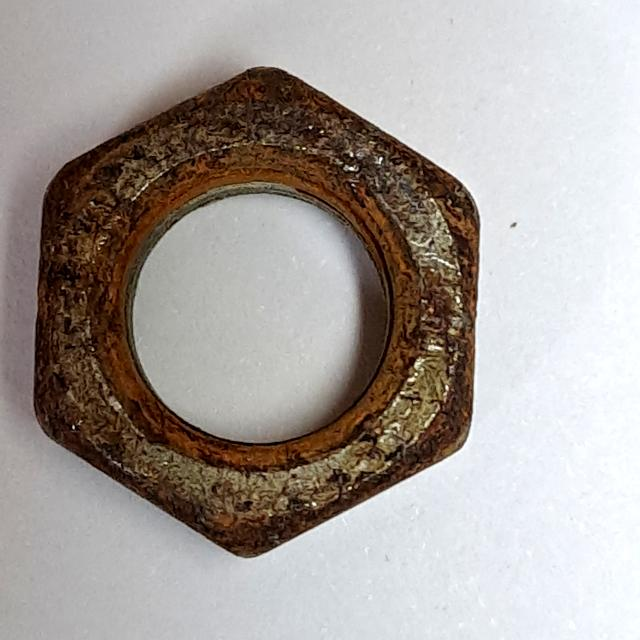Rust: (23, 53, 503, 576)
